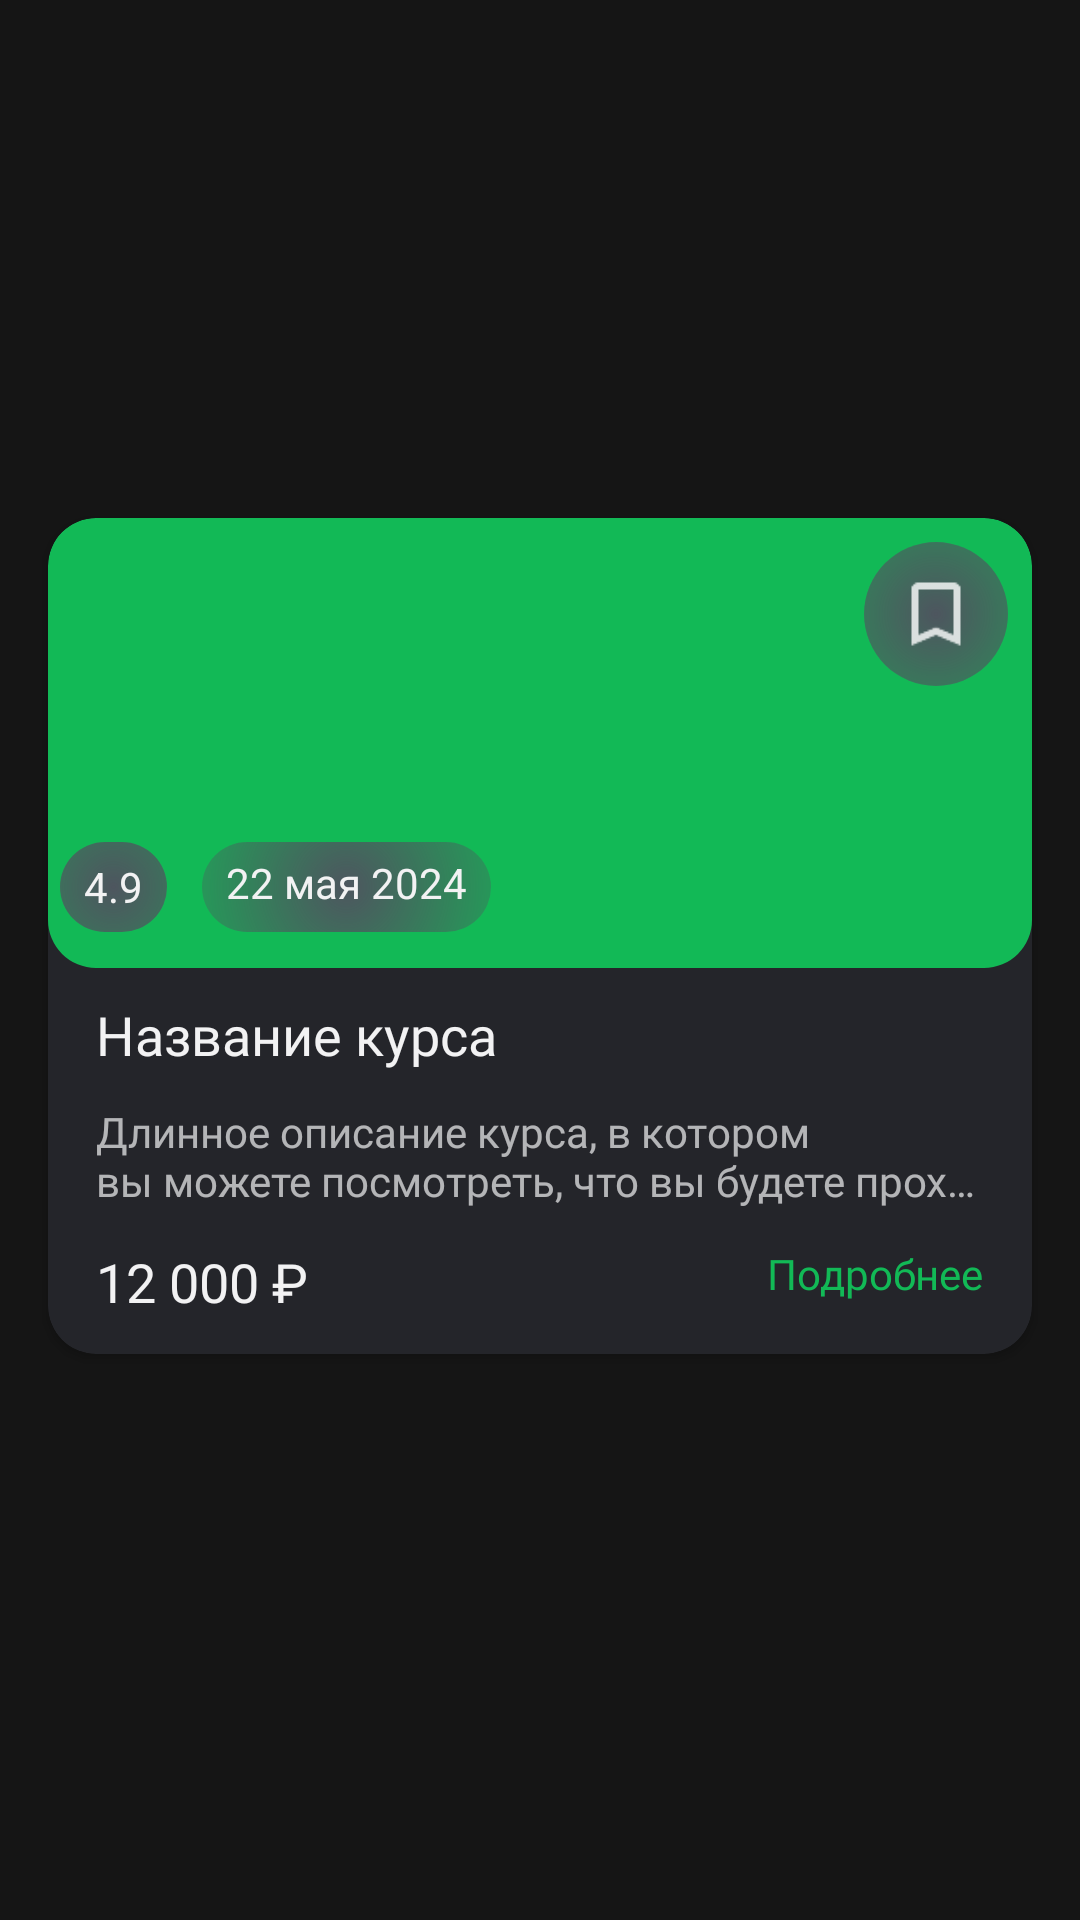

Where to tap for icons on this 1080x1920 app screen, as (x=x, y=y):
Избранное: (x=936, y=614)
